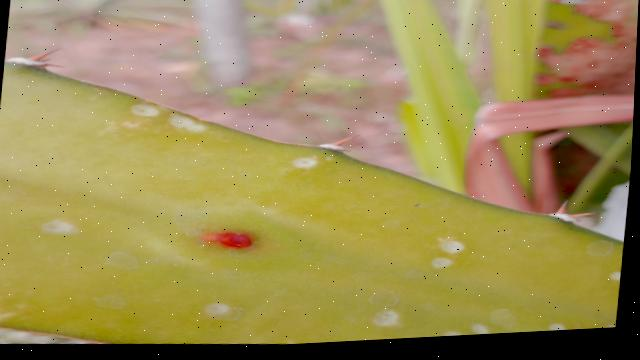stemcanker: (193, 219, 279, 264), (163, 111, 209, 137), (35, 215, 78, 240), (428, 233, 472, 256), (121, 99, 162, 122), (366, 306, 405, 329), (288, 154, 321, 175), (202, 303, 232, 317)
